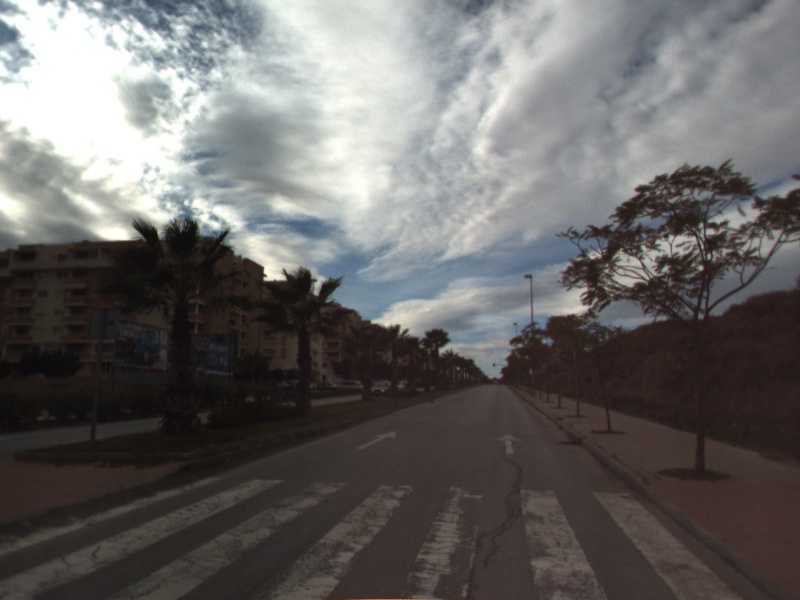STRAIGHT: (355, 428, 398, 451), (494, 431, 524, 456)
